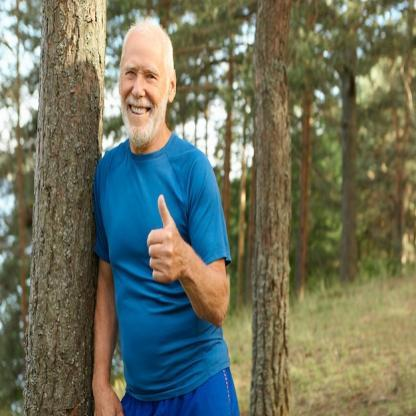thumb_up: (144, 190, 184, 286)
